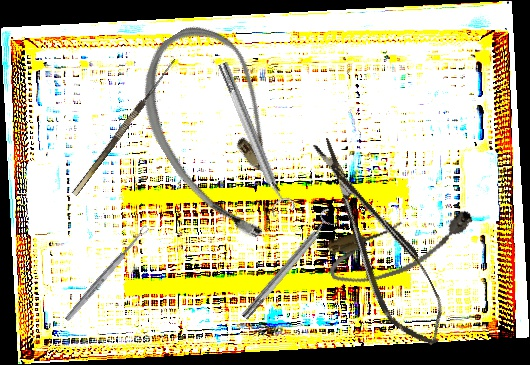Cannula: (113, 10, 329, 255), (321, 201, 482, 292)
Fixation Ring: (211, 58, 297, 218), (235, 206, 342, 324)
Hook Surgical: (64, 52, 179, 197)
Micro Scissor: (300, 125, 458, 358)
Surgical Spoon: (63, 224, 151, 323)
